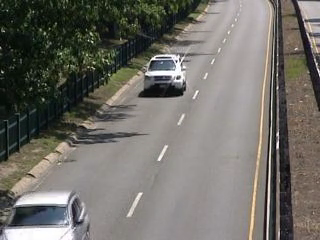car: (2, 188, 94, 240), (139, 48, 192, 98)
